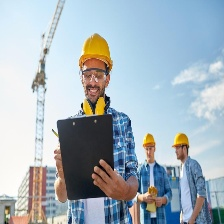helmet: (78, 34, 112, 65), (172, 130, 190, 148), (143, 132, 155, 148)
no-vest: (178, 158, 205, 223), (143, 161, 168, 222)
person: (56, 33, 143, 224), (173, 130, 209, 224), (142, 133, 169, 224)
